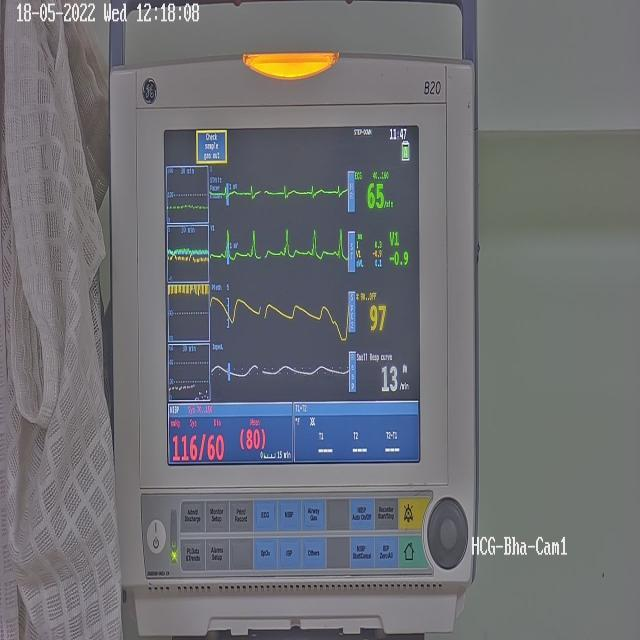Monitor: (109, 44, 478, 632)
